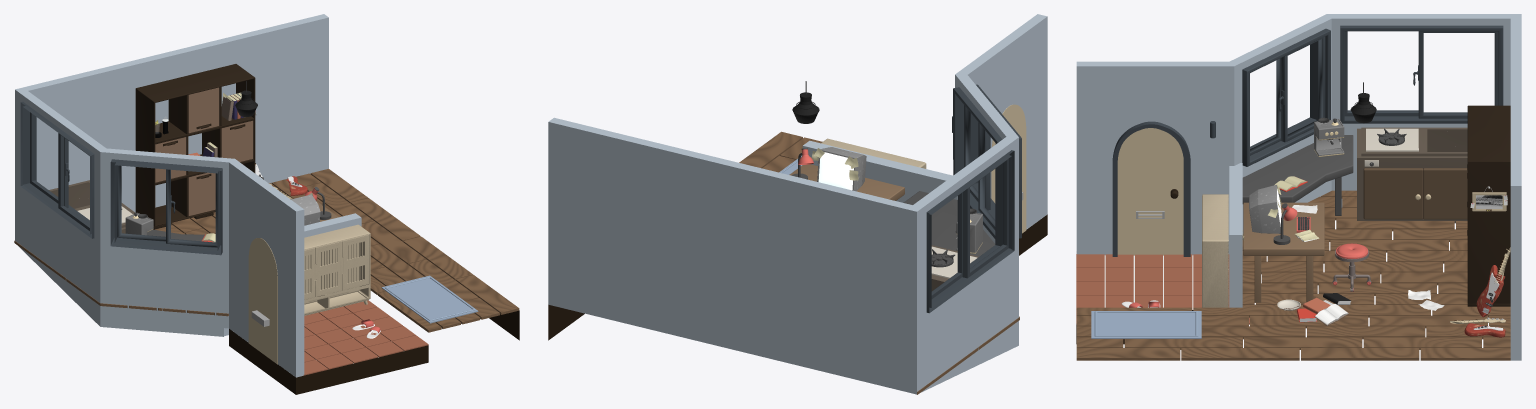
Rendered from main.glb.
3 renders of one model, left to right at view 1: azimuth 30°, elevation 25°; view 2: azimuth 150°, elevation 25°; view 3: azimuth 270°, elevation 25°, orthographic. The views are drawn at different scales.
Parts seen in each view (by area): view 1: 牆, 地板, 玄關磁磚, 書櫃外框, 玄關地基, 門, Cube.020, 切窗用2.001, 門口地毯.001, 窗框, 窗框.003, 切窗用2.002 (+15 smaller); view 2: 牆, 窗框, 切窗用2.001, 隔牆, 窗框.003, 地板, Cube.004, 切窗用2.002, 門, Cube.021, Cube.014, Cube.020 (+6 smaller); view 3: 地板, 牆, 門, 書櫃外框, 玄關磁磚, 灶台, Cube.004, 切窗用2.001, 灶台櫃門左, 門口地毯.001, Cube.020, 窗框 (+13 smaller).
Boxes of the visible parts, x1,y1,x2,y2 form: 牆: (15,14,328,377); 地板: (14,169,519,332); 玄關磁磚: (303,300,428,375); 書櫃外框: (135,64,255,226); 玄關地基: (229,329,428,394); 門: (248,238,277,364); Cube.020: (304,224,370,315); 切窗用2.001: (110,159,222,255); 門口地毯.001: (381,275,478,323); 窗框: (20,102,94,238); 窗框.003: (30,112,89,230); 切窗用2.002: (117,165,219,247); 牆: (548,14,1047,394); 窗框: (926,150,1014,313); 切窗用2.001: (953,84,1021,238); 隔牆: (802,140,957,202); 窗框.003: (931,154,1009,298); 地板: (739,131,1019,394); Cube.004: (903,191,995,256); 切窗用2.002: (964,105,995,230); 門: (991,104,1026,233); Cube.021: (818,152,853,190); Cube.014: (789,164,904,200); Cube.020: (821,138,926,168); 地板: (1076,190,1510,360); 牆: (1076,14,1521,360); 門: (1117,128,1183,255); 書櫃外框: (1467,105,1510,303); 玄關磁磚: (1076,254,1249,324); 灶台: (1357,127,1467,223); Cube.004: (1242,135,1353,203); 切窗用2.001: (1242,28,1330,166); 灶台櫃門左: (1363,168,1423,219); 門口地毯.001: (1091,311,1201,338); Cube.020: (1202,194,1228,307); 窗框: (1340,25,1503,123).
Bounding box in the file's own units: 7.43 × 4.62 × 8.07.
Materials: 58 (9 with a texture image).
